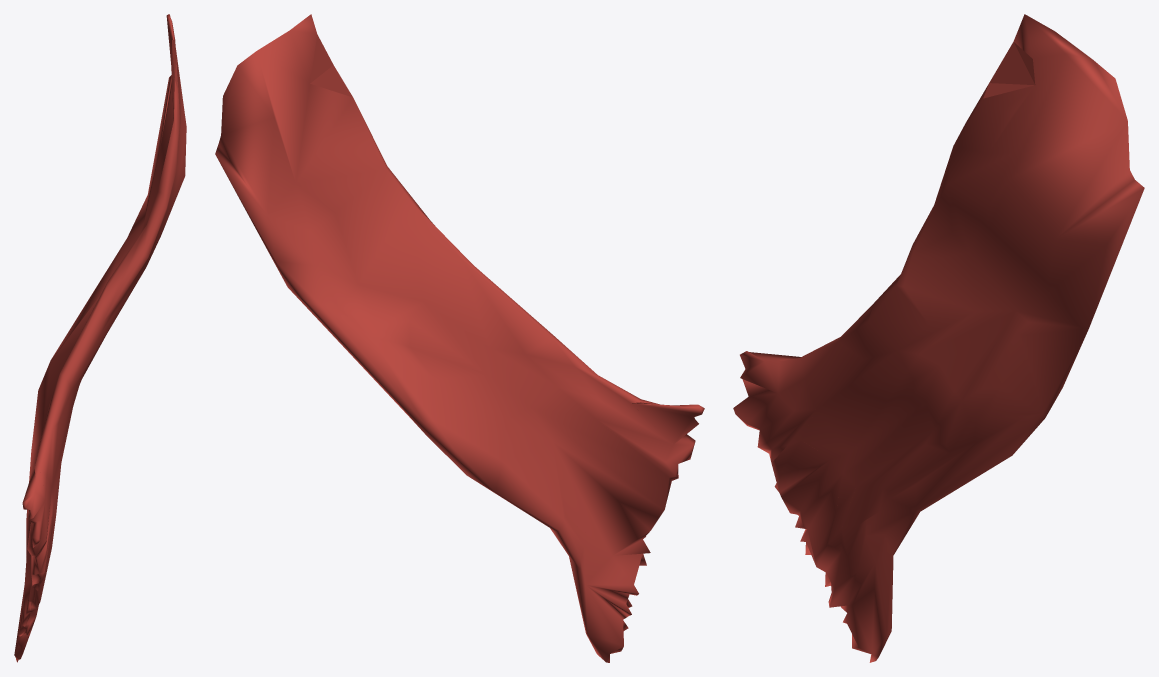
File: musculos-zygomaticus-major-muscle-l.glb
The picture shows the model from 3 angles, left to right: view 1: azimuth 30°, elevation 25°; view 2: azimuth 150°, elevation 25°; view 3: azimuth 270°, elevation 25°; orthographic projection. The views are drawn at different scales.
Parts seen in each view (by area): view 1: Zygomaticus major muscle.l; view 2: Zygomaticus major muscle.l; view 3: Zygomaticus major muscle.l.
Part boxes in pixels (x1,y1,x2,y2): Zygomaticus major muscle.l: (14, 14, 186, 662); Zygomaticus major muscle.l: (215, 14, 704, 662); Zygomaticus major muscle.l: (733, 14, 1144, 662).
Bounding box in the file's own units: 0.0293 × 0.0545 × 0.0256.
